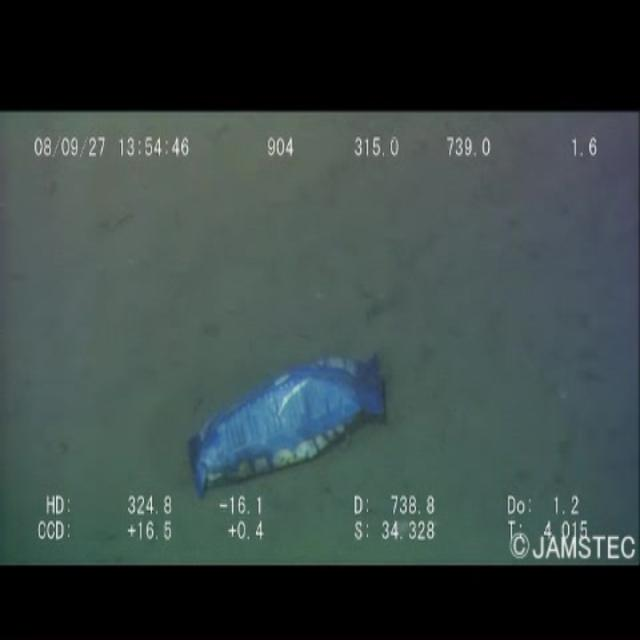Litter: (175, 348, 414, 497)
